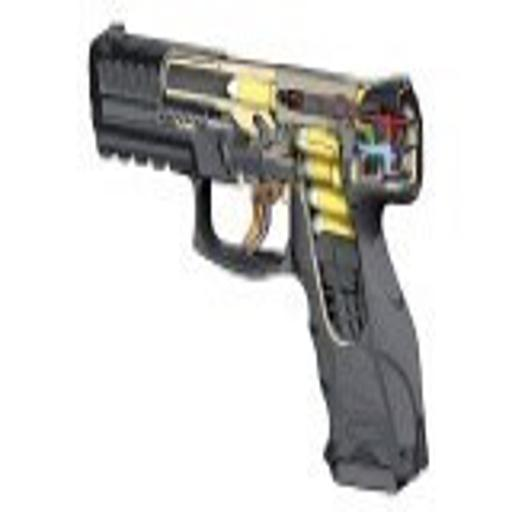Handgun: (85, 20, 431, 493)
